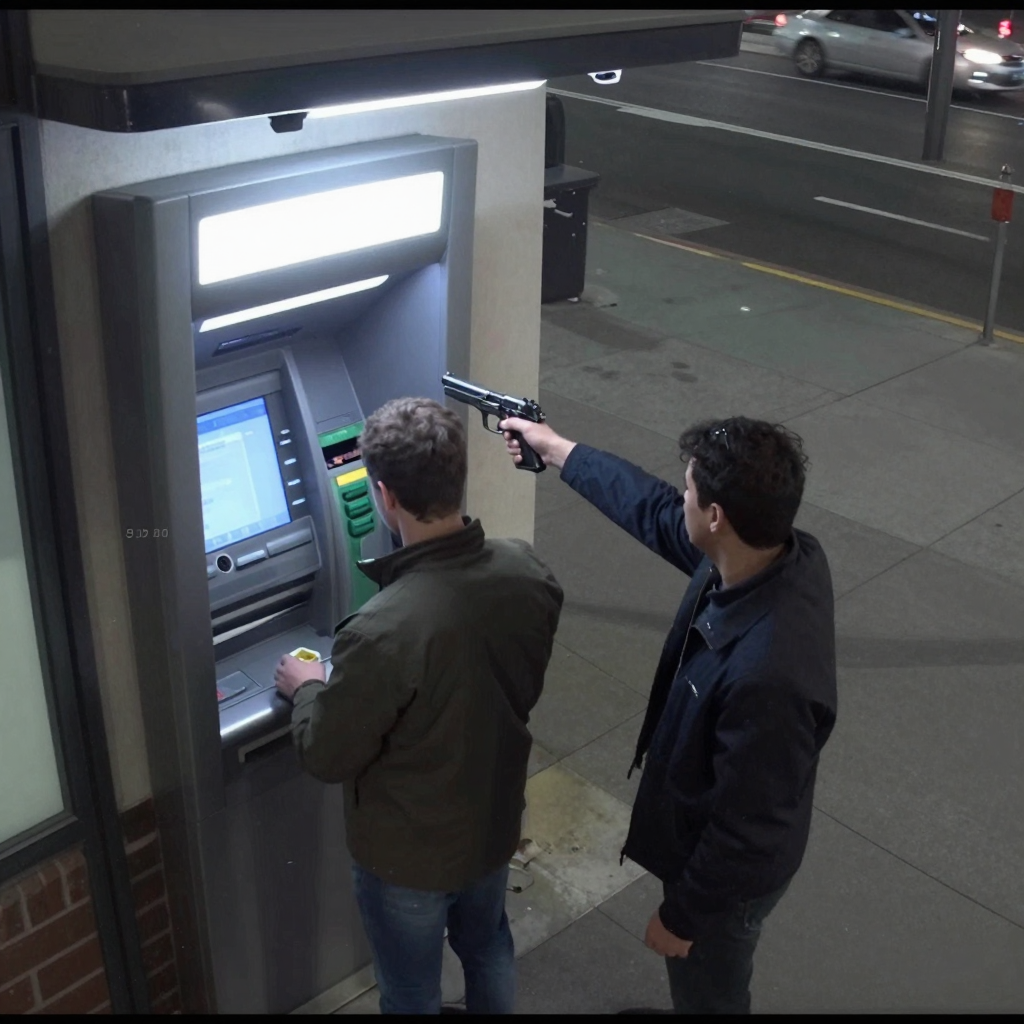Robbery: (501, 414, 838, 1015), (272, 396, 566, 1015)
Shooting: (441, 372, 548, 474)
